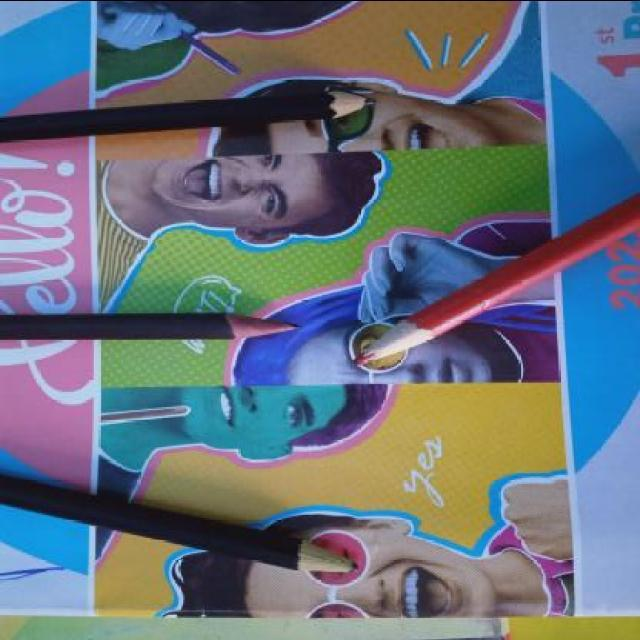Pencil: (342, 310, 444, 373), (207, 306, 313, 344), (286, 536, 368, 582), (317, 82, 383, 122)
